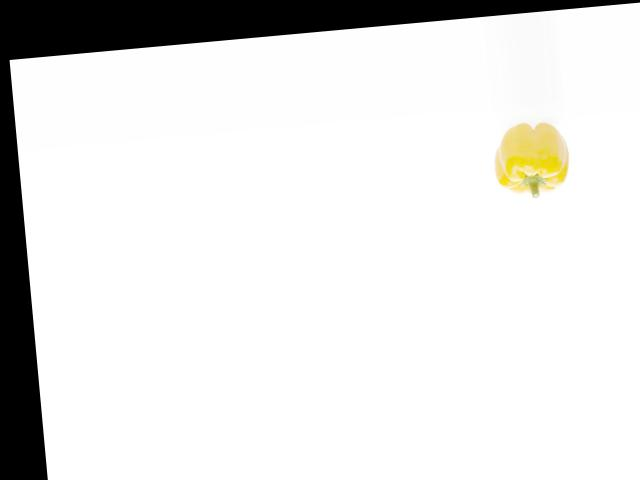bell_pepper: (485, 117, 571, 204)
